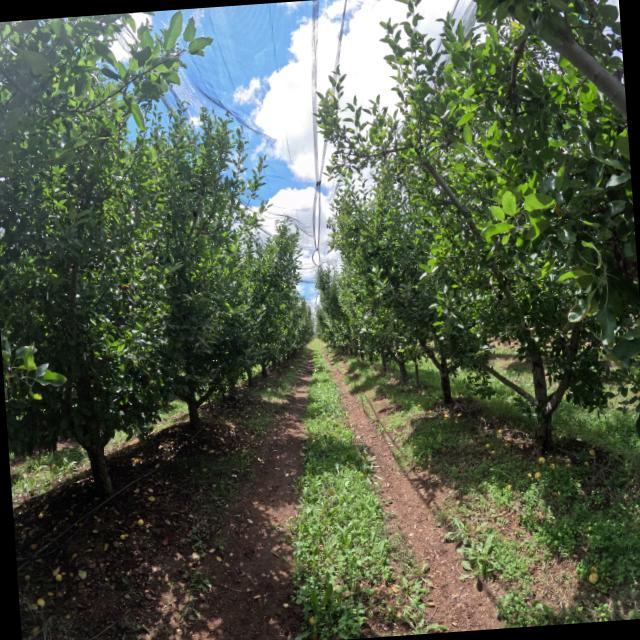-FireBlight-: (608, 229, 639, 294)
